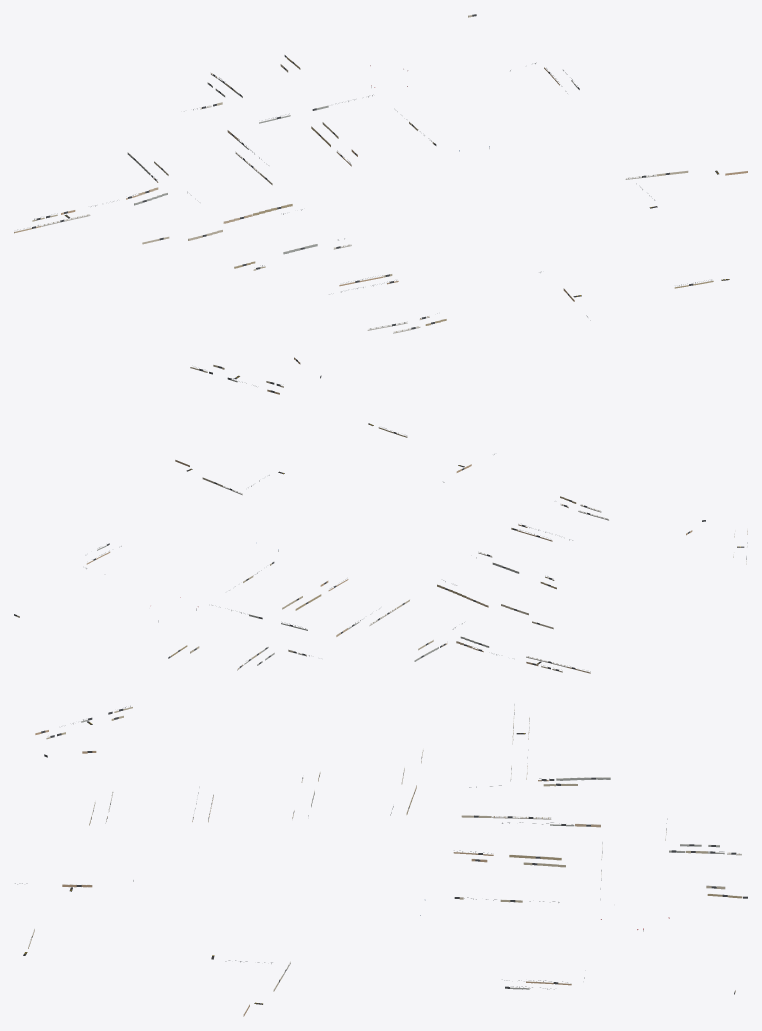
3 renders of one model, top to bottom at view 1: azimuth 30°, elevation 25°; view 2: azimuth 150°, elevation 25°; view 3: azimuth 270°, elevation 25°, orthographic. The views are drawn at different scales.
Visible parts, largest first — view 1: nd_st_m14_m4_lod0; view 2: nd_st_m14_m4_lod0; view 3: nd_st_m14_m4_lod0.
Boxes of the visible parts, x1,y1,x2,y2 form: nd_st_m14_m4_lod0: (14,14,747,394); nd_st_m14_m4_lod0: (14,423,747,673); nd_st_m14_m4_lod0: (15,704,747,1016).
Size of what is drawn, in the model's own units: 517 by 18.45 by 504.
